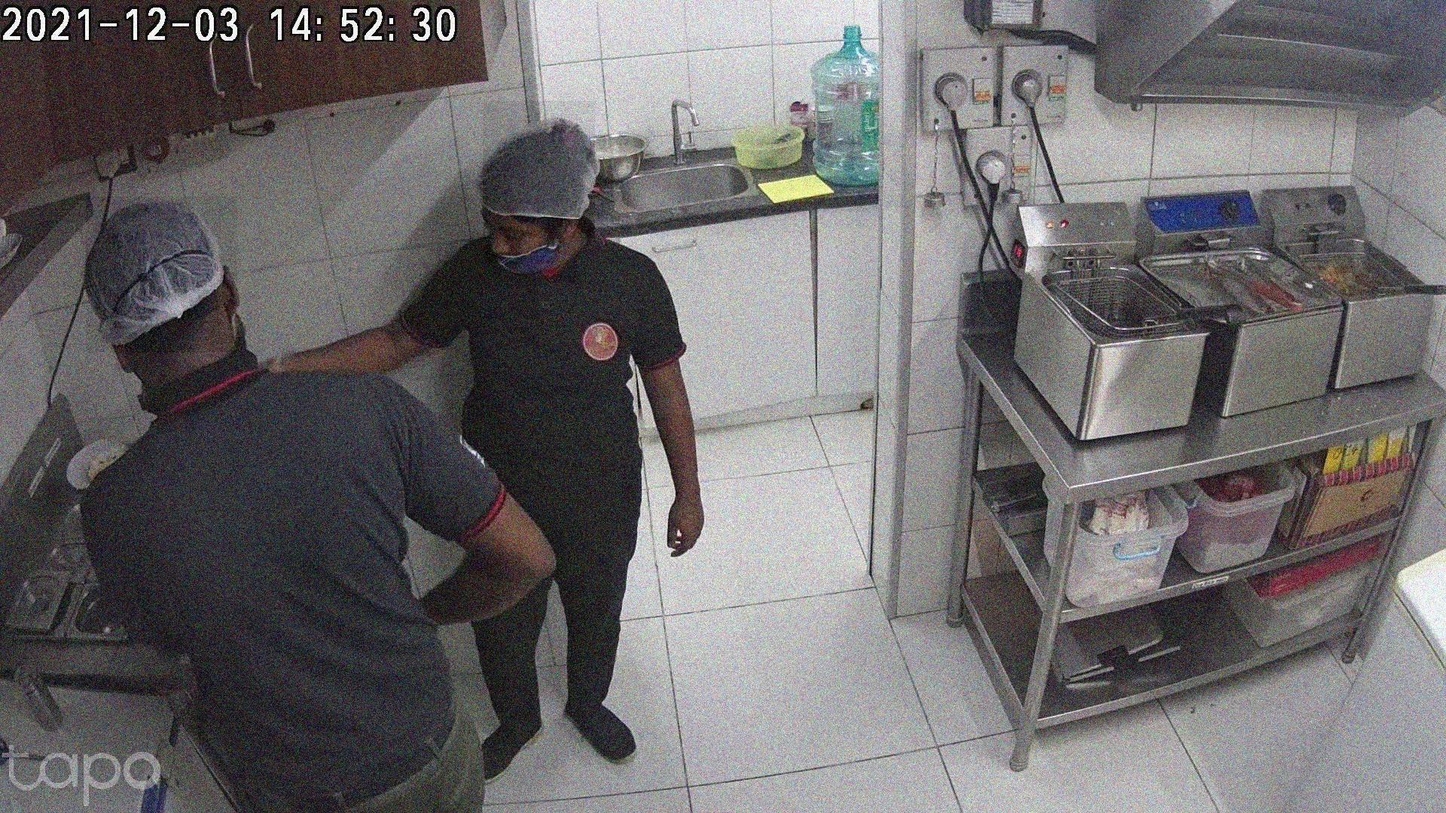gloves: (86, 196, 237, 352), (483, 101, 595, 239)
no_apron: (654, 473, 734, 567)
no_hairnet: (485, 210, 554, 264)
